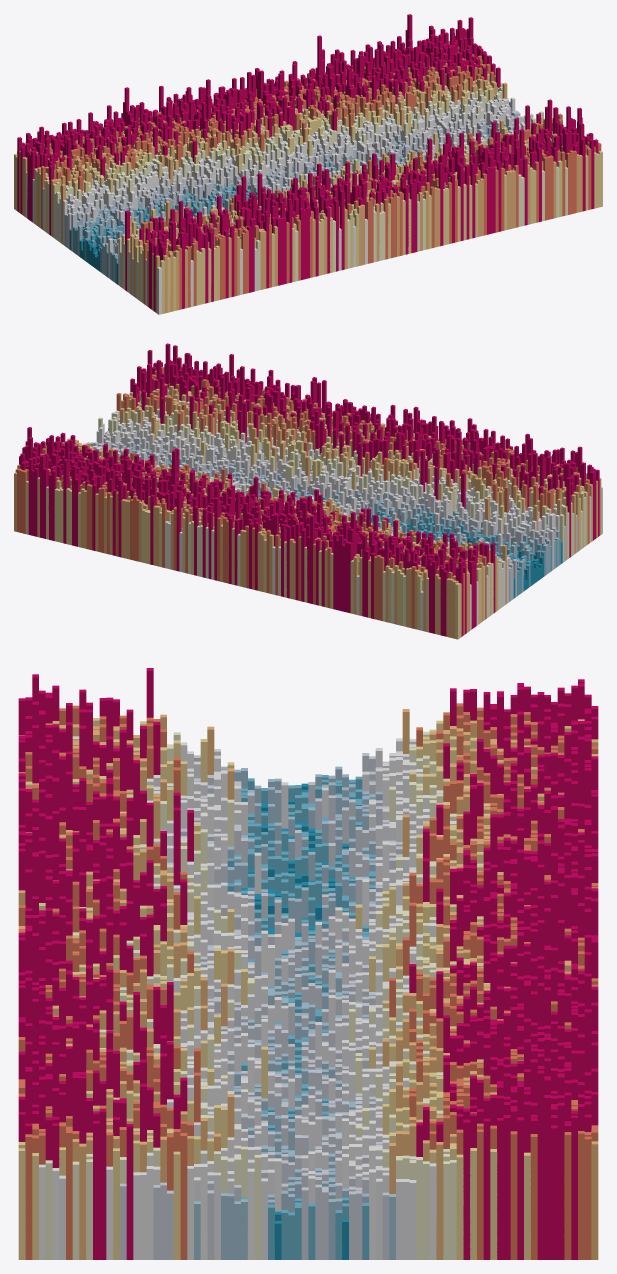
The model's file is 3D-histogram.fbx.
The picture shows the model from 3 angles, top to bottom: view 1: azimuth 30°, elevation 25°; view 2: azimuth 150°, elevation 25°; view 3: azimuth 270°, elevation 25°; orthographic projection. The views are drawn at different scales.
Parts seen in each view (by area): view 1: STVPoly_Factor_11, STVPoly_Factor_10, STVPoly_Factor_8, STVPoly_Factor_9, STVPoly_Factor_7, STVPoly_Factor_5, STVPoly_Factor_6, STVPoly_Factor_4, STVPoly_Factor_3, STVPoly_Factor_2, STVPoly_Factor_1; view 2: STVPoly_Factor_11, STVPoly_Factor_10, STVPoly_Factor_9, STVPoly_Factor_8, STVPoly_Factor_5, STVPoly_Factor_6, STVPoly_Factor_7, STVPoly_Factor_4, STVPoly_Factor_3, STVPoly_Factor_2, STVPoly_Factor_1; view 3: STVPoly_Factor_11, STVPoly_Factor_10, STVPoly_Factor_5, STVPoly_Factor_4, STVPoly_Factor_6, STVPoly_Factor_8, STVPoly_Factor_9, STVPoly_Factor_7, STVPoly_Factor_3, STVPoly_Factor_2, STVPoly_Factor_1.
Boxes of the visible parts, x1=… form: STVPoly_Factor_11: x1=17, y1=14, x2=598, y2=312; STVPoly_Factor_10: x1=19, y1=40, x2=601, y2=309; STVPoly_Factor_8: x1=14, y1=73, x2=602, y2=313; STVPoly_Factor_9: x1=17, y1=66, x2=589, y2=313; STVPoly_Factor_7: x1=44, y1=79, x2=567, y2=302; STVPoly_Factor_5: x1=42, y1=98, x2=524, y2=299; STVPoly_Factor_6: x1=25, y1=92, x2=543, y2=314; STVPoly_Factor_4: x1=66, y1=107, x2=525, y2=295; STVPoly_Factor_3: x1=64, y1=115, x2=514, y2=282; STVPoly_Factor_2: x1=73, y1=131, x2=490, y2=283; STVPoly_Factor_1: x1=69, y1=199, x2=225, y2=284; STVPoly_Factor_11: x1=19, y1=343, x2=599, y2=636; STVPoly_Factor_10: x1=15, y1=366, x2=589, y2=635; STVPoly_Factor_9: x1=14, y1=373, x2=601, y2=638; STVPoly_Factor_8: x1=25, y1=388, x2=587, y2=639; STVPoly_Factor_5: x1=90, y1=418, x2=582, y2=630; STVPoly_Factor_6: x1=93, y1=410, x2=602, y2=630; STVPoly_Factor_7: x1=98, y1=395, x2=585, y2=626; STVPoly_Factor_4: x1=84, y1=431, x2=577, y2=600; STVPoly_Factor_3: x1=98, y1=432, x2=559, y2=602; STVPoly_Factor_2: x1=168, y1=460, x2=560, y2=596; STVPoly_Factor_1: x1=371, y1=518, x2=562, y2=598; STVPoly_Factor_11: x1=18, y1=668, x2=598, y2=1259; STVPoly_Factor_10: x1=18, y1=703, x2=598, y2=1259; STVPoly_Factor_5: x1=59, y1=748, x2=416, y2=1259; STVPoly_Factor_4: x1=119, y1=753, x2=416, y2=1259; STVPoly_Factor_6: x1=39, y1=738, x2=456, y2=1259; STVPoly_Factor_8: x1=18, y1=718, x2=530, y2=1259; STVPoly_Factor_9: x1=18, y1=709, x2=598, y2=1259; STVPoly_Factor_7: x1=45, y1=731, x2=483, y2=1259; STVPoly_Factor_3: x1=194, y1=766, x2=395, y2=1259; STVPoly_Factor_2: x1=227, y1=775, x2=375, y2=1259; STVPoly_Factor_1: x1=241, y1=783, x2=362, y2=1259.
Bounding box in the file's own units: 40.27 × 9.42 × 22.75.
